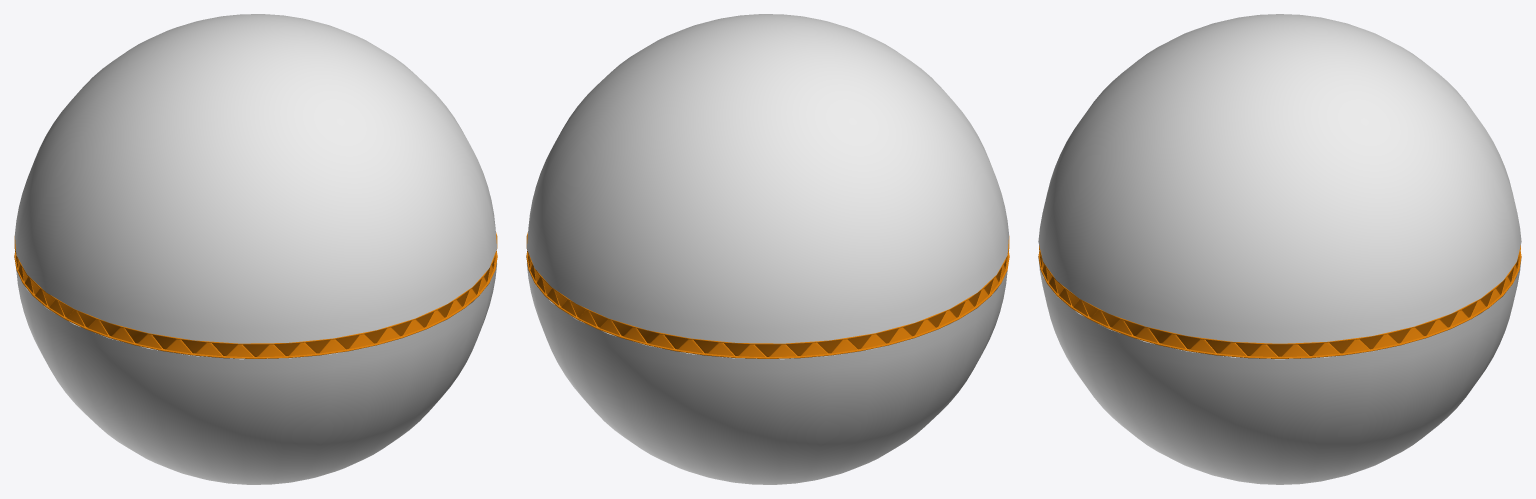
Rendered from Steampunk_Marble.fbx.
3 views of the same model, side by side, from view 1: azimuth 30°, elevation 25°; view 2: azimuth 150°, elevation 25°; view 3: azimuth 270°, elevation 25° (orthographic).
Parts seen in each view (by area): view 1: Part2_Hull, Part1_Hull, Part1_Connector, Part2_Connector; view 2: Part2_Hull, Part1_Hull, Part1_Connector, Part2_Connector; view 3: Part2_Hull, Part1_Hull, Part1_Connector, Part2_Connector.
Boxes of the visible parts, <box> form: Part2_Hull: <box>15,14,496,343</box>; Part1_Hull: <box>15,250,496,484</box>; Part1_Connector: <box>14,251,497,358</box>; Part2_Connector: <box>14,232,497,356</box>; Part2_Hull: <box>527,14,1008,343</box>; Part1_Hull: <box>527,250,1008,484</box>; Part1_Connector: <box>526,251,1009,358</box>; Part2_Connector: <box>526,232,1009,356</box>; Part2_Hull: <box>1038,14,1521,343</box>; Part1_Hull: <box>1038,257,1521,484</box>; Part1_Connector: <box>1038,251,1521,358</box>; Part2_Connector: <box>1039,245,1520,356</box>.
Size of the model in its own units: 213 by 207 by 213.
